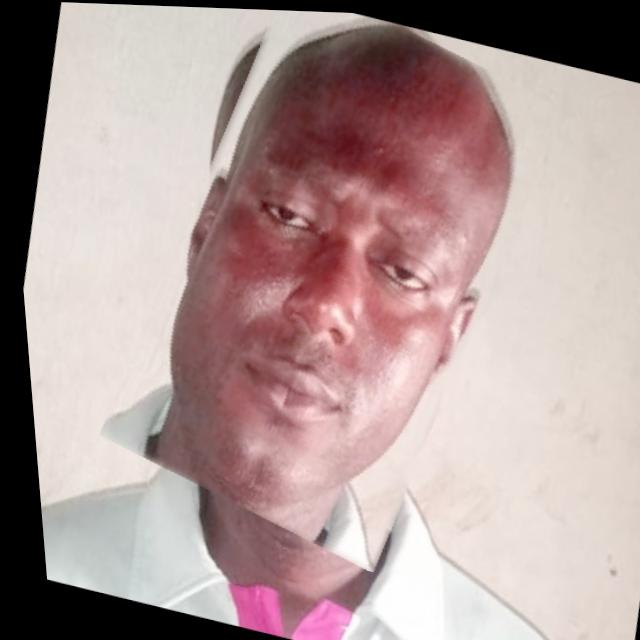sad: (80, 2, 572, 582)
